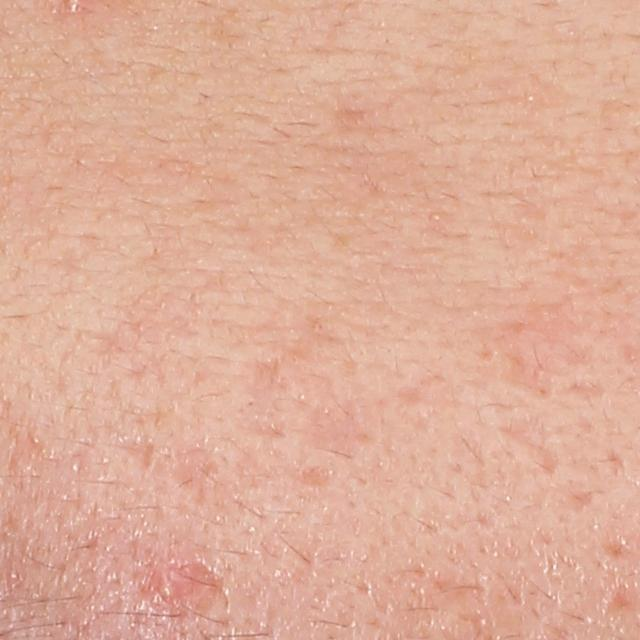atrophic_scar: (488, 336, 572, 402), (501, 300, 590, 360), (498, 416, 558, 472), (245, 358, 298, 403), (100, 437, 157, 476), (294, 463, 342, 491), (604, 585, 638, 616), (597, 539, 638, 564), (559, 381, 606, 397), (565, 488, 595, 513)
